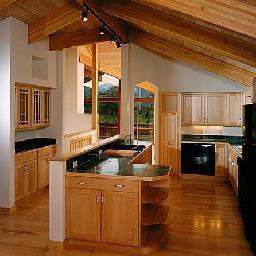Electrodomestico: (240, 104, 255, 246), (183, 141, 215, 177)
